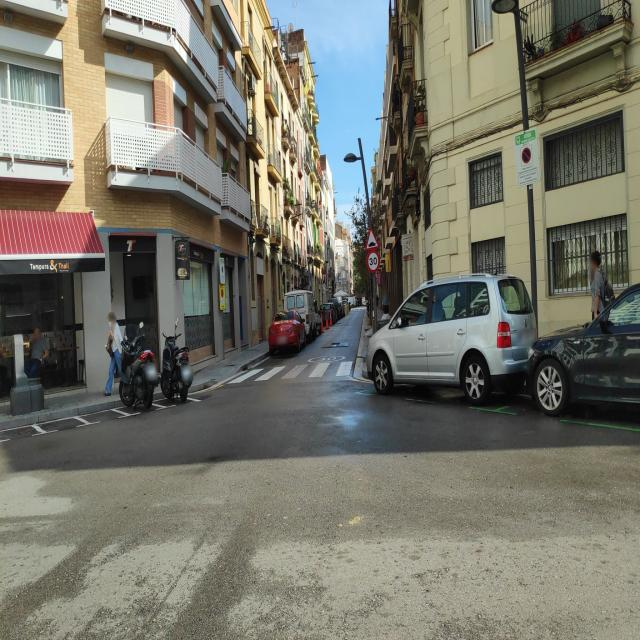forb_stopping: (522, 147, 530, 163)
